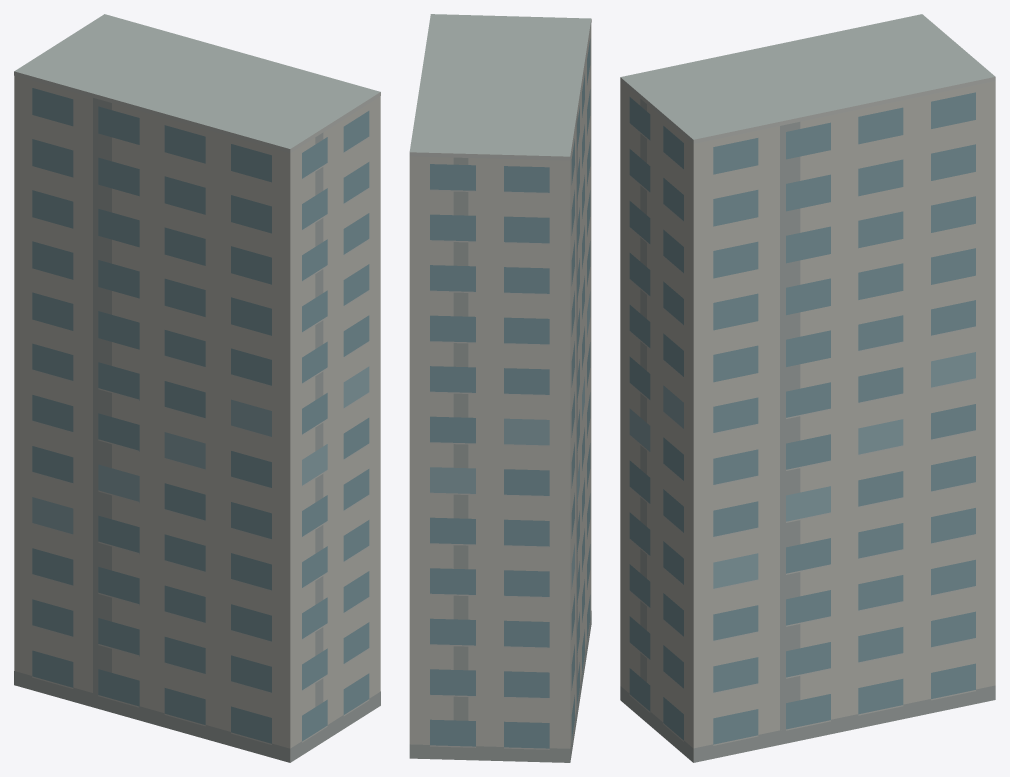
Rendered from residential-0f4f7621-9287-44db-8fc6-d15042225f2c.glb.
The picture shows the model from 3 angles, left to right: view 1: azimuth 30°, elevation 25°; view 2: azimuth 150°, elevation 25°; view 3: azimuth 270°, elevation 25°; orthographic projection. The views are drawn at different scales.
Parts seen in each view (by area): view 1: residential-0f4f7621-9287-44db-8fc6-d15042225f2c.tmp; view 2: residential-0f4f7621-9287-44db-8fc6-d15042225f2c.tmp; view 3: residential-0f4f7621-9287-44db-8fc6-d15042225f2c.tmp.
Part boxes in pixels (left/top/right/bottom): residential-0f4f7621-9287-44db-8fc6-d15042225f2c.tmp: left=14, top=14, right=380, bottom=762; residential-0f4f7621-9287-44db-8fc6-d15042225f2c.tmp: left=409, top=14, right=591, bottom=762; residential-0f4f7621-9287-44db-8fc6-d15042225f2c.tmp: left=620, top=14, right=995, bottom=762.
Size of the model in its own units: 15.59 by 36 by 19.66.
